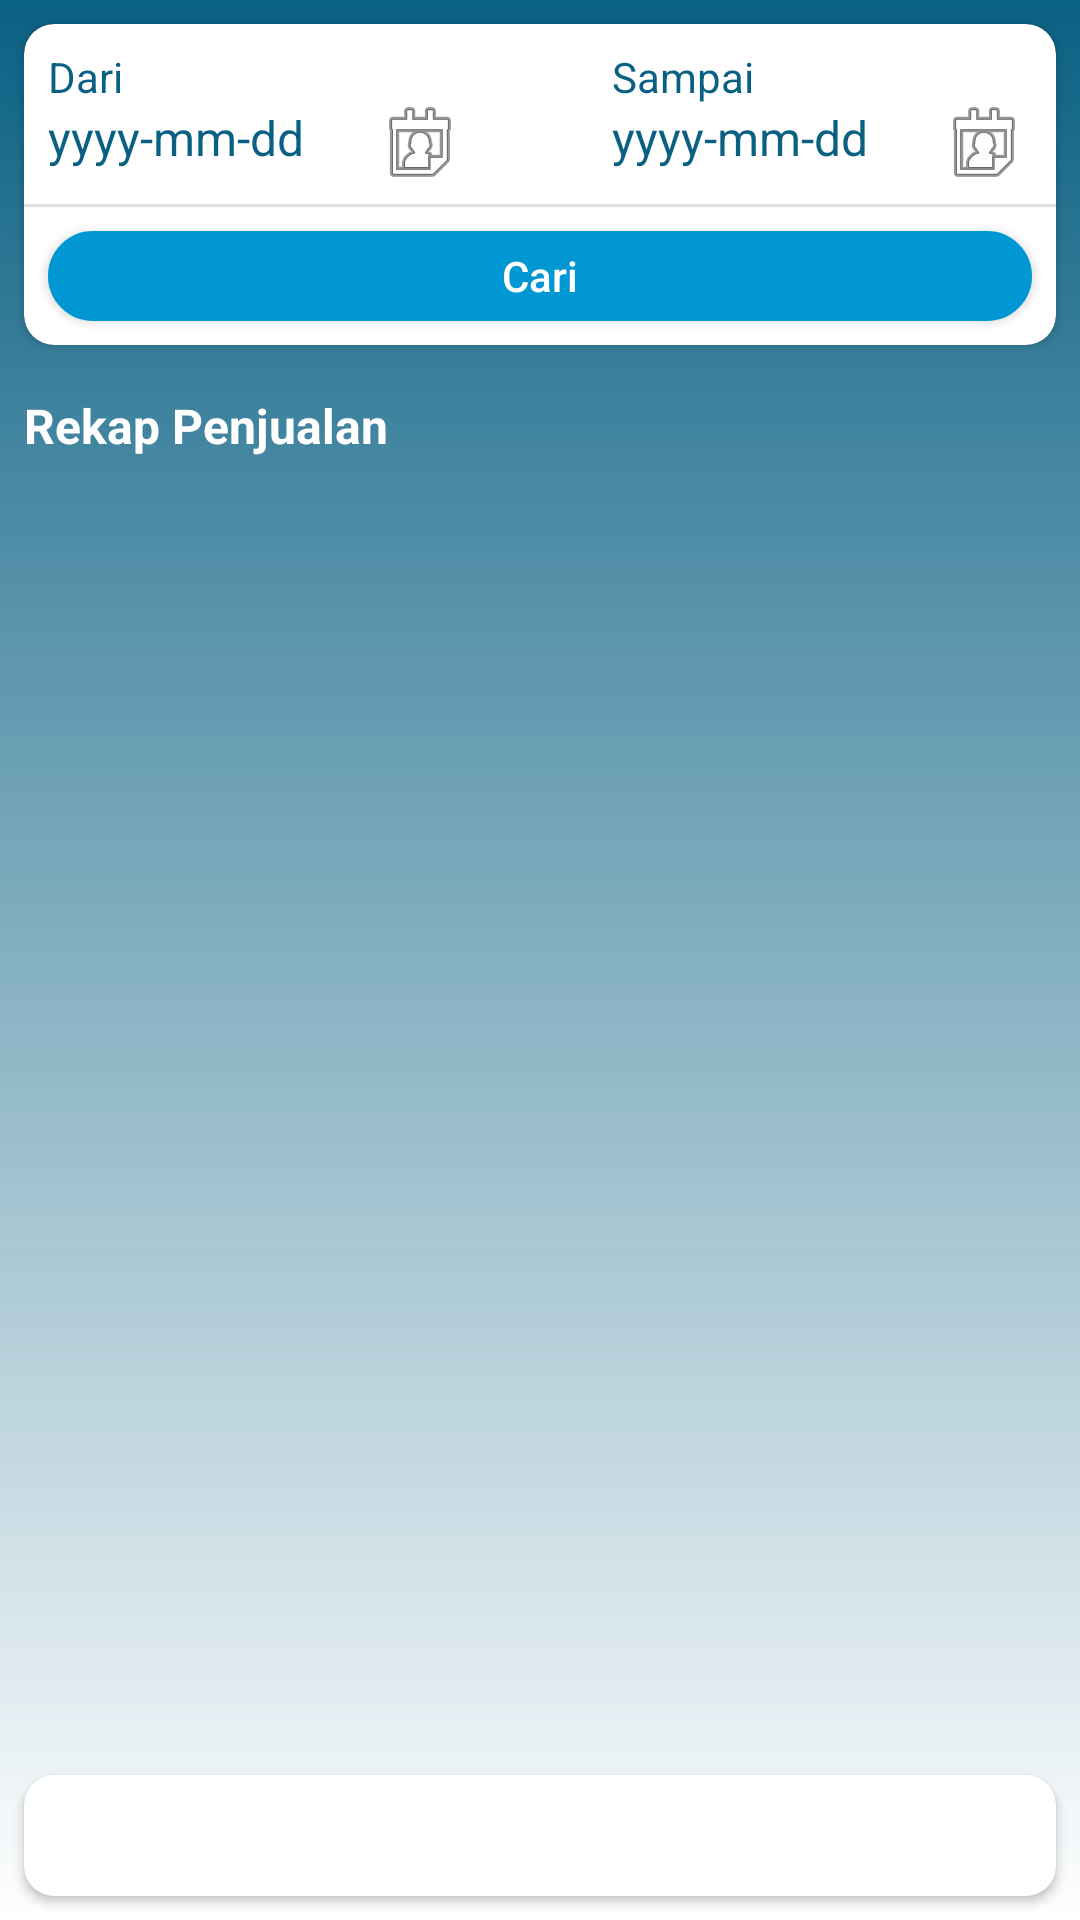

Screen size 1080×1920. Icon name, then its box in pixels as (x1, y1, x2, y2):
calendar: (389, 107, 451, 177), (953, 107, 1015, 177)
